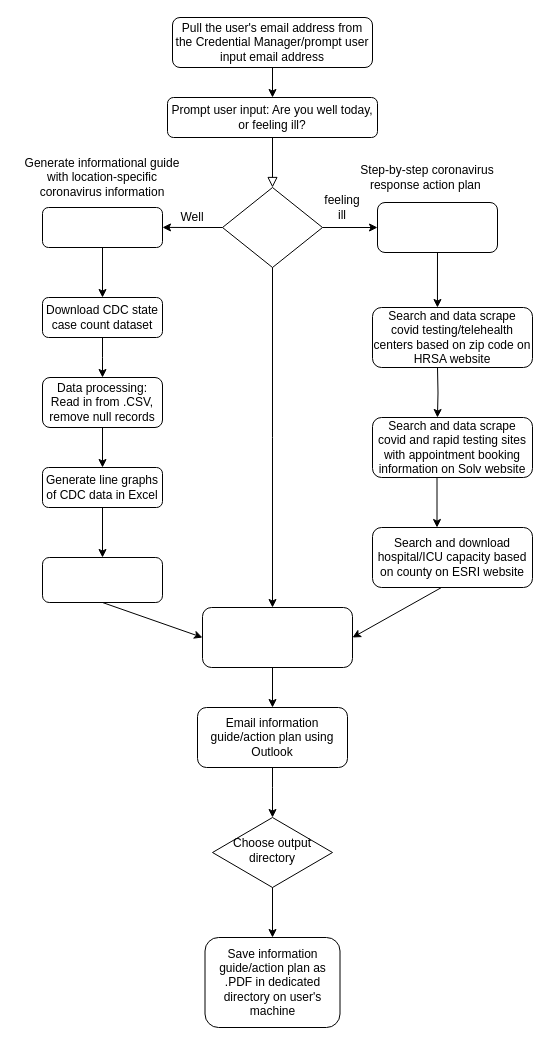
Image size: 550x1045. Some labels were removed from this diagram. The shapes that lost their labels are listed below. From the top down, each one's box as (x1, y1, x2, y2) in pixels, then its label:
(42, 206, 162, 248): Prompt user input: state, city
(222, 186, 322, 268): Well/feeling ill
(376, 202, 498, 252): Prompt user input: state, city, county, zip code
(42, 556, 162, 602): Data scrape official covid guidance on CDC website
(202, 606, 352, 668): Compile and generate information guide/action plan in UiPath
